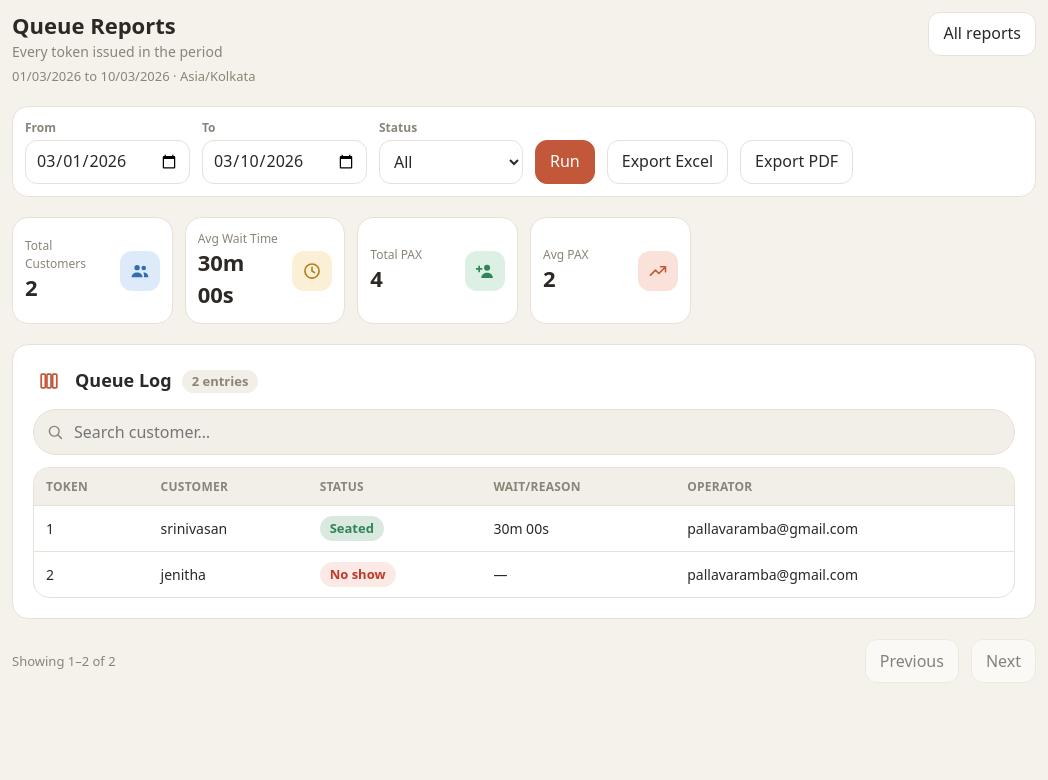
Test case: queue.tokens report panel › RF-44. the search box filters the rows already on screen by customer, without asking the server again
Check: the table is shown, box [34,468,1014,597]
Type "jeni" into the search field with placeholder "Search customer…".
click(537, 432); type("jeni")  # box [72,410,1002,454]
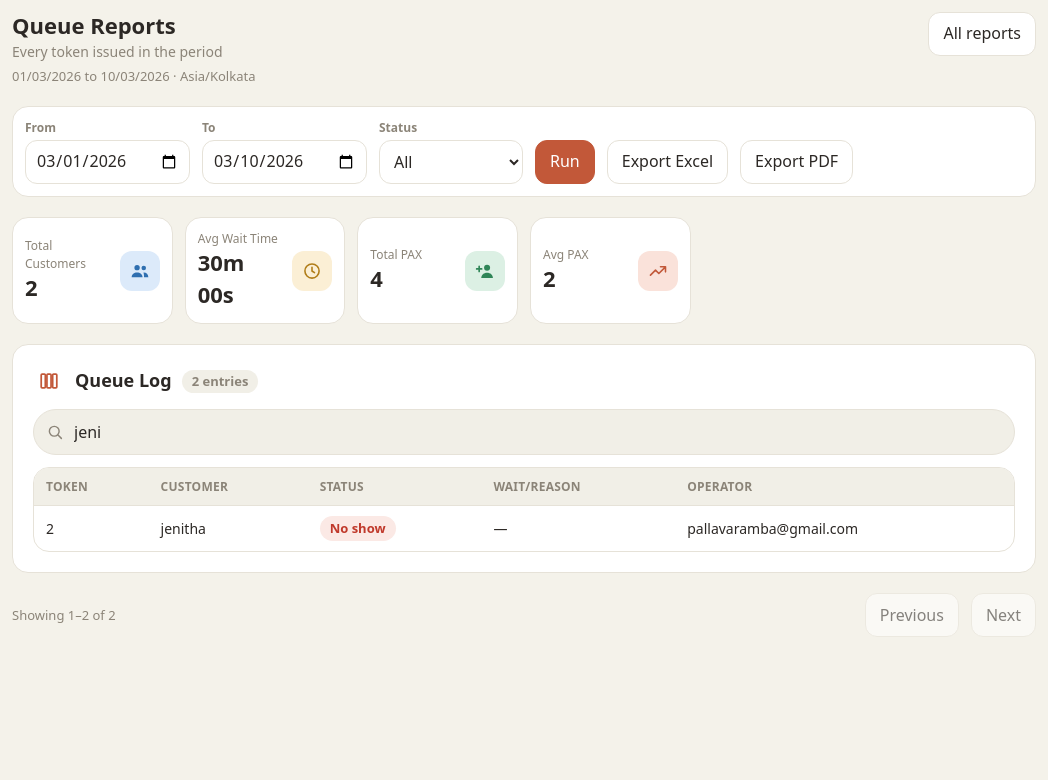
Check: the number of rows is 2, box [34,468,1014,506]; [34,506,1014,551]
Check: the text "jenitha" is shown, box [149,506,308,551]
Check: the text "srinivasan" is gone
